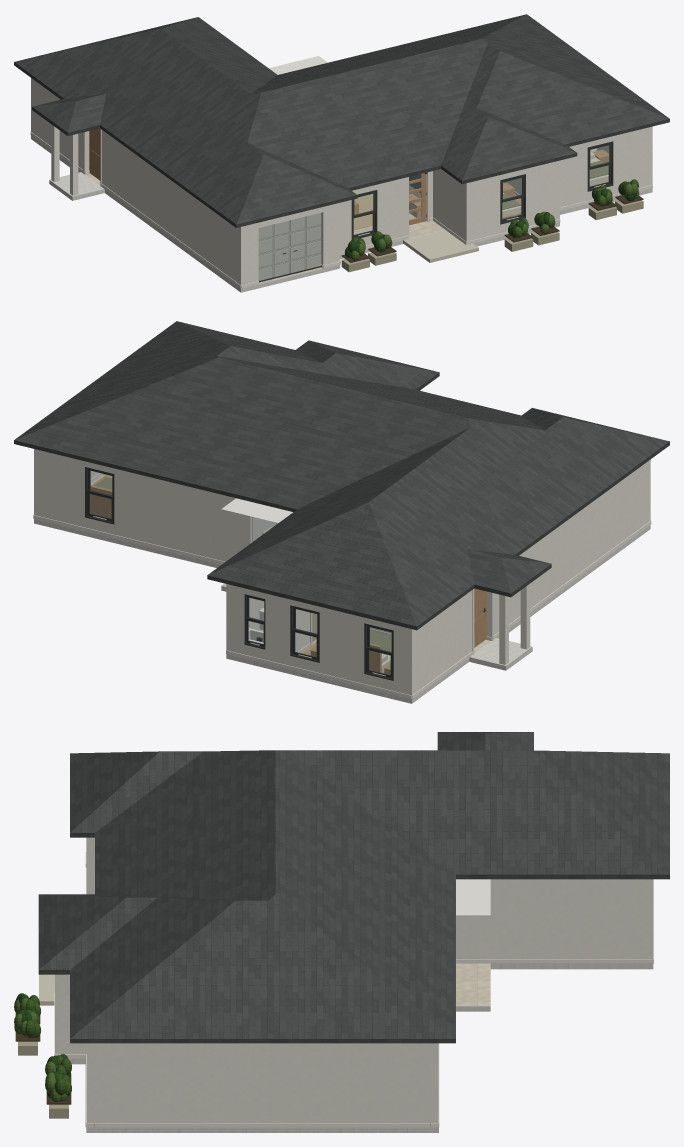
File: utah-plan-v3.glb
3 views of the same model, one above another, from view 1: azimuth 30°, elevation 25°; view 2: azimuth 150°, elevation 25°; view 3: azimuth 270°, elevation 25° (orthographic). The views are drawn at different scales.
Parts seen in each view (by area): view 1: 165 Componente#83, 075 Componente#3, Garaje · paneles seccionales y herrajes (×2), 085 Componente#13, 083 Componente#11, 073 Componente#1, 079 Componente#7, 082 Componente#10, Utah · rodapiés continuos, Acceso piedra, 077 Componente#5, 076 Componente#4 (+7 smaller); view 2: 165 Componente#83, 086 Componente#14, 075 Componente#3, 074 Componente#2, 073 Componente#1, Utah · rodapiés continuos, Utah · cielo raso a 8 ft, Utah · puerta 135, 166 Componente#84, 167 Componente#85, Cabecero roble; view 3: 165 Componente#83, 088 Componente#16, 087 Componente#15, 073 Componente#1, Utah · rodapiés continuos, Utah · pavimento área social, Utah · cielo raso a 8 ft, 084 Componente#12, 074 Componente#2, 083 Componente#11, 085 Componente#13, 086 Componente#14.
Boxes of the visible parts, x1,y1,x2,y2 form: 165 Componente#83: [14, 14, 669, 227]; 075 Componente#3: [34, 80, 246, 285]; Garaje · paneles seccionales y herrajes (×2): [258, 212, 321, 282]; 085 Componente#13: [560, 126, 652, 207]; 083 Componente#11: [472, 160, 559, 240]; 073 Componente#1: [31, 135, 652, 292]; 079 Componente#7: [340, 177, 408, 251]; 082 Componente#10: [433, 169, 471, 241]; Utah · rodapiés continuos: [30, 131, 652, 288]; Acceso piedra: [403, 230, 478, 262]; 077 Componente#5: [321, 203, 340, 265]; 076 Componente#4: [246, 207, 323, 283]; 165 Componente#83: [14, 321, 669, 630]; 086 Componente#14: [34, 449, 251, 561]; 075 Componente#3: [415, 459, 650, 692]; 074 Componente#2: [226, 584, 415, 695]; 073 Componente#1: [34, 519, 650, 703]; Utah · rodapiés continuos: [33, 473, 651, 699]; Utah · cielo raso a 8 ft: [221, 498, 292, 522]; Utah · puerta 135: [474, 588, 486, 647]; 166 Componente#84: [499, 594, 508, 664]; 167 Componente#85: [520, 583, 530, 649]; Cabecero roble: [90, 485, 112, 518]; 165 Componente#83: [38, 732, 669, 1043]; 088 Componente#16: [94, 1043, 430, 1122]; 087 Componente#15: [456, 879, 644, 959]; 073 Componente#1: [68, 964, 653, 1132]; Utah · rodapiés continuos: [54, 852, 653, 1127]; Utah · pavimento área social: [456, 963, 490, 1005]; Utah · cielo raso a 8 ft: [456, 879, 490, 915]; 084 Componente#12: [63, 974, 86, 1054]; 074 Componente#2: [645, 879, 653, 959]; 083 Componente#11: [55, 974, 63, 1054]; 085 Componente#13: [86, 1043, 94, 1122]; 086 Componente#14: [430, 1043, 438, 1122].
Bounding box in the file's own units: 17.58 × 4.59 × 15.88.
61 materials, 28 textured.
